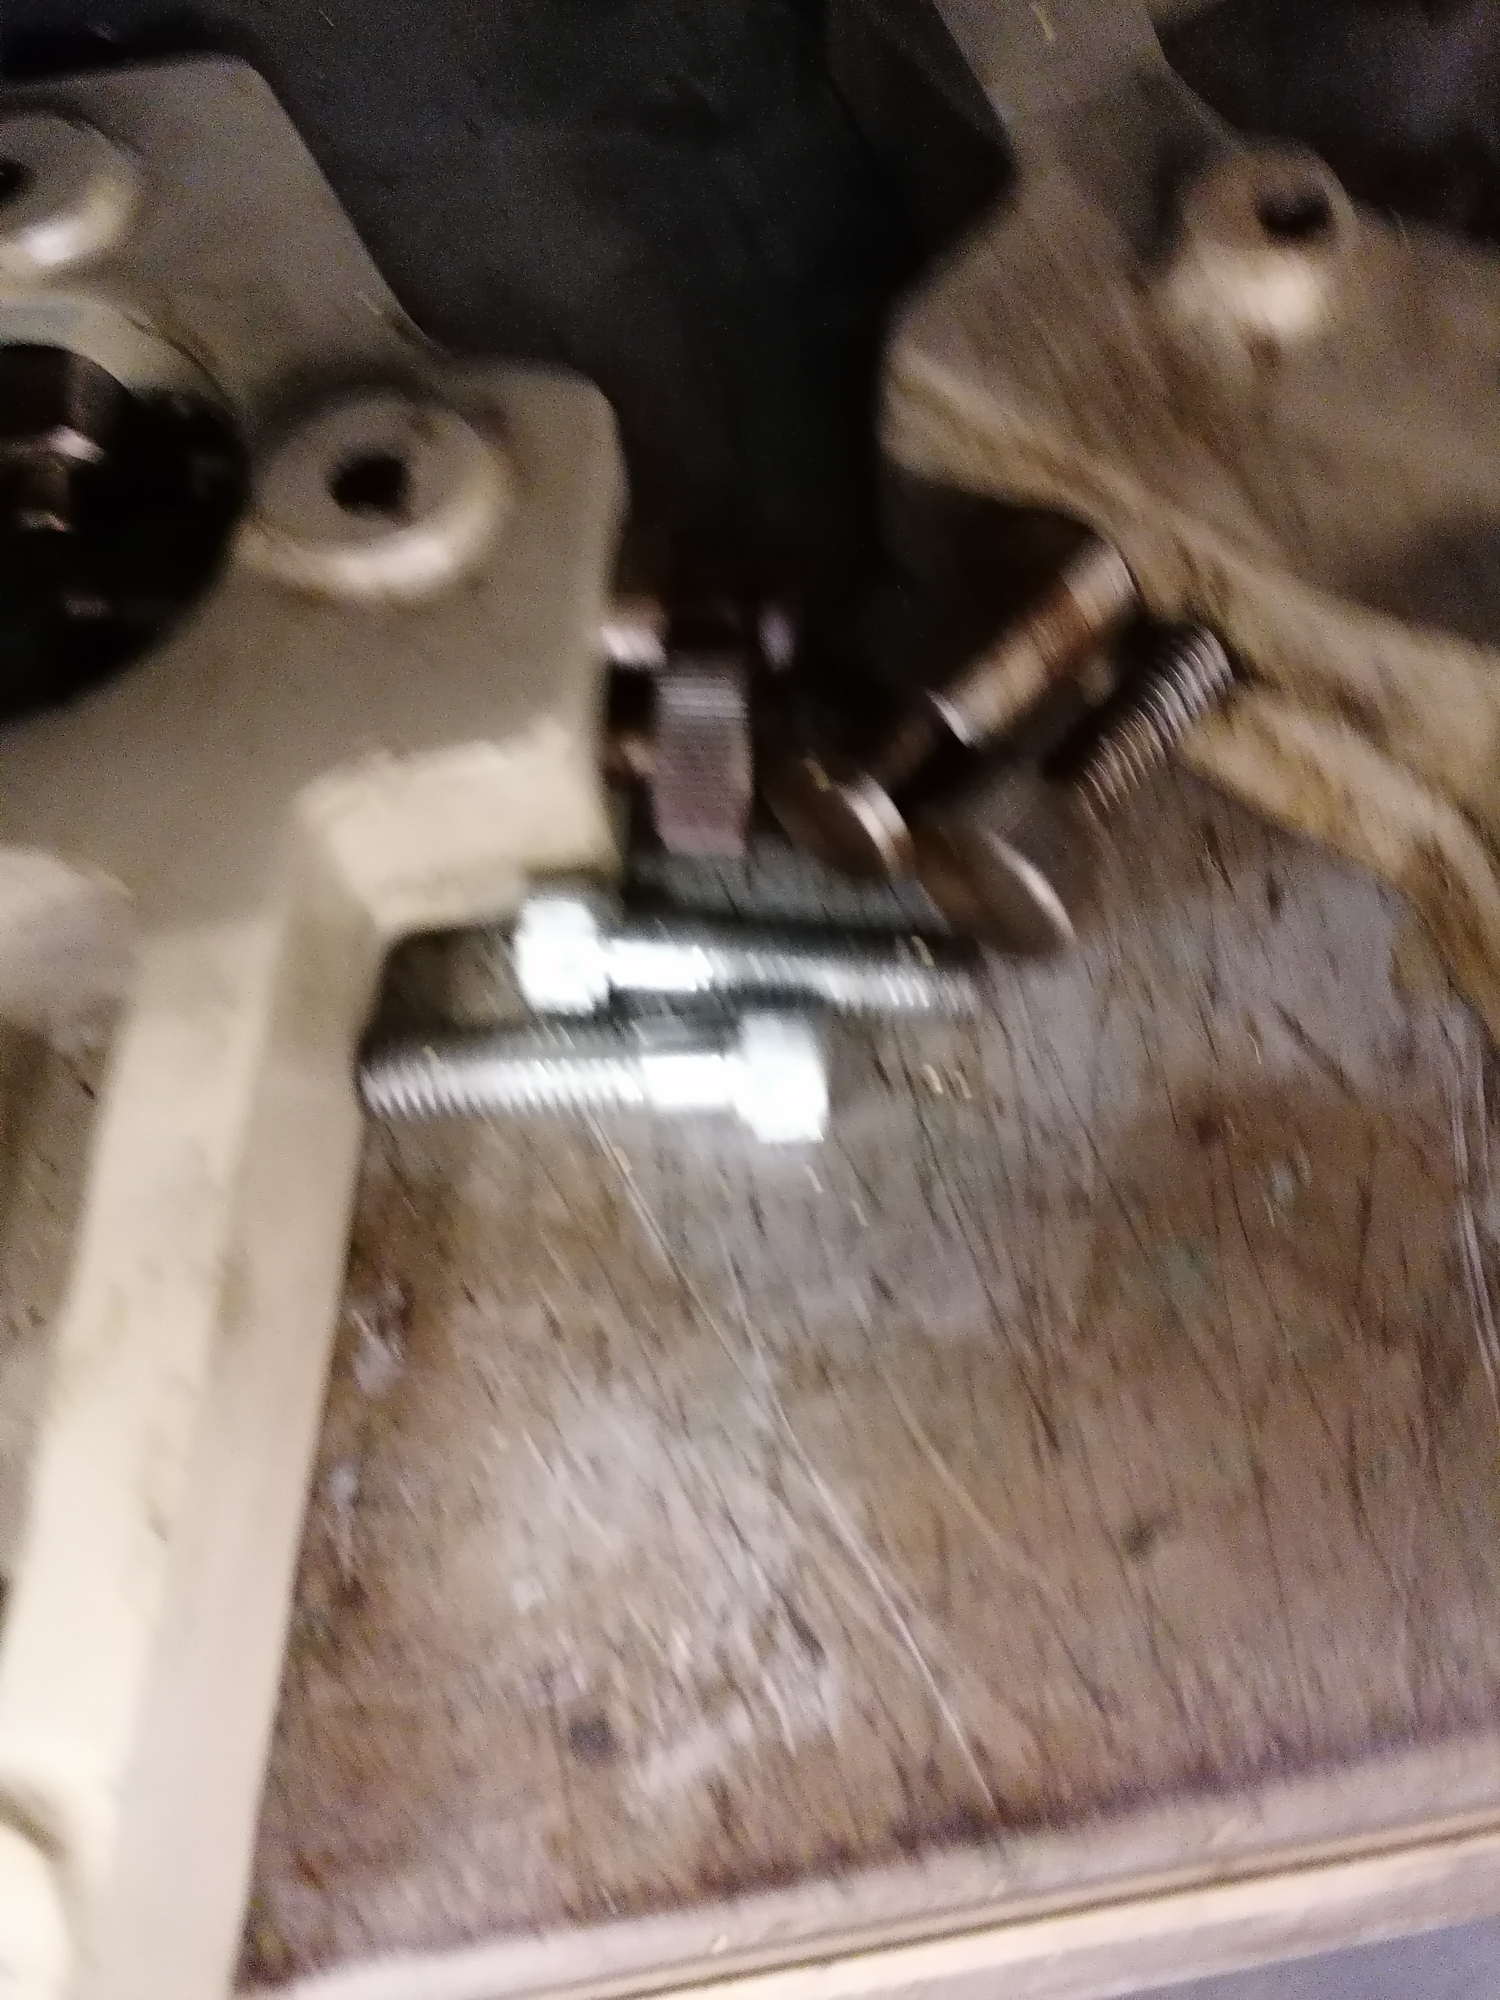bolt: (945, 617, 1231, 951), (507, 860, 989, 1030), (355, 1017, 845, 1153)
